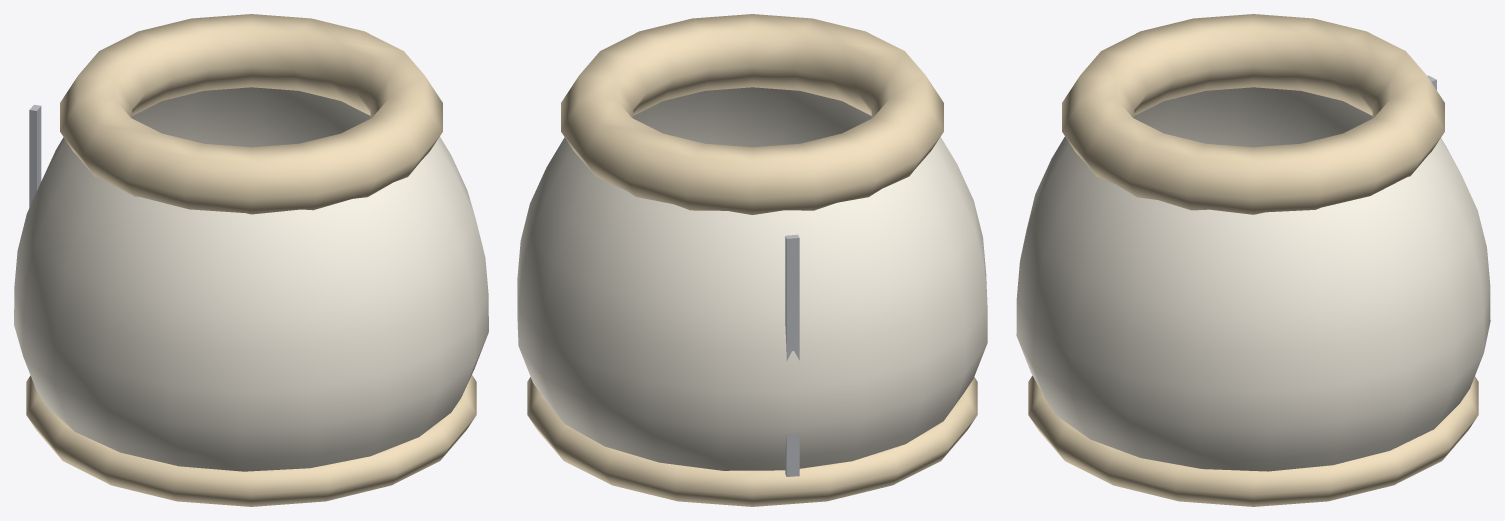
File: polar_chest.fbx
3 renders of one model, left to right at view 1: azimuth 30°, elevation 25°; view 2: azimuth 150°, elevation 25°; view 3: azimuth 270°, elevation 25°, orthographic.
Parts seen in each view (by area): view 1: polar_chest; view 2: polar_chest; view 3: polar_chest.
Part boxes in pixels (x1=…): polar_chest: x1=14, y1=14, x2=488, y2=506; polar_chest: x1=517, y1=14, x2=987, y2=506; polar_chest: x1=1016, y1=14, x2=1490, y2=506.
Size of the model in its own units: 1.8 by 1.37 by 1.8.
